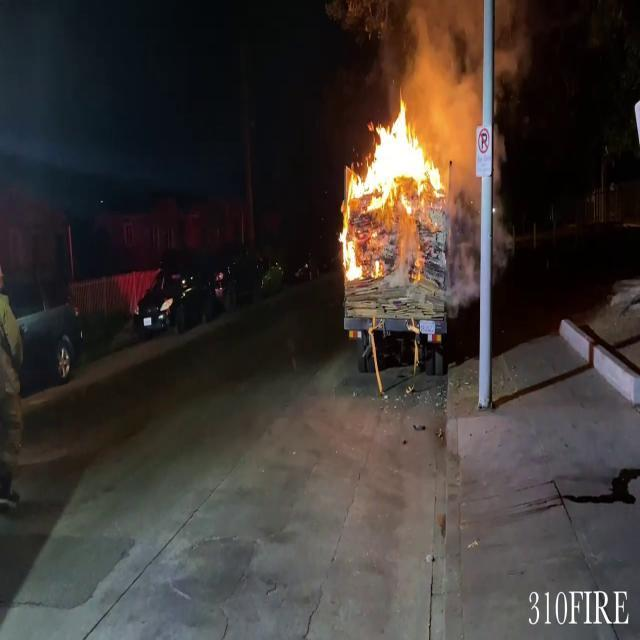Fire: (332, 94, 452, 283)
